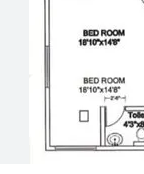window: (40, 43, 55, 93), (52, 142, 99, 157)
